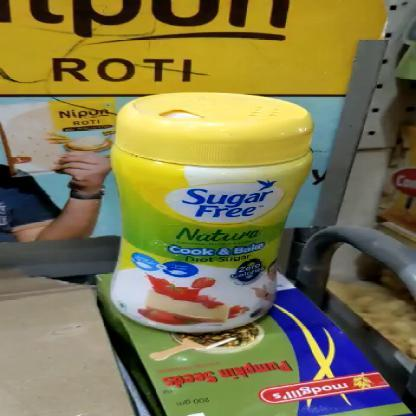SUGAR FREE NATURA DIET SUGAR 80GM: (102, 88, 322, 338)
